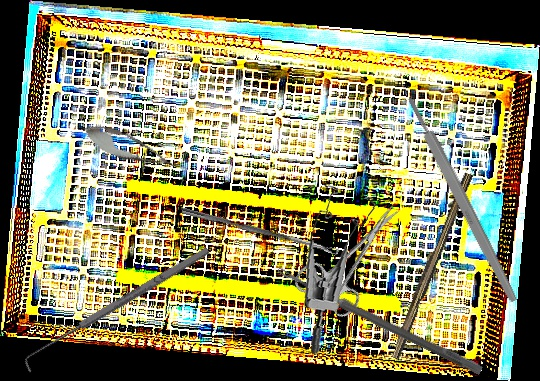Hook Surgical: (19, 243, 215, 374)
Iris Scissors: (289, 186, 424, 327)
Micro Scissor: (76, 116, 193, 183)
Scalpel Handle: (404, 94, 520, 305), (387, 169, 474, 362)
Speculum: (290, 178, 393, 356)
Surgical Spoon: (275, 265, 484, 376), (178, 206, 340, 257)
